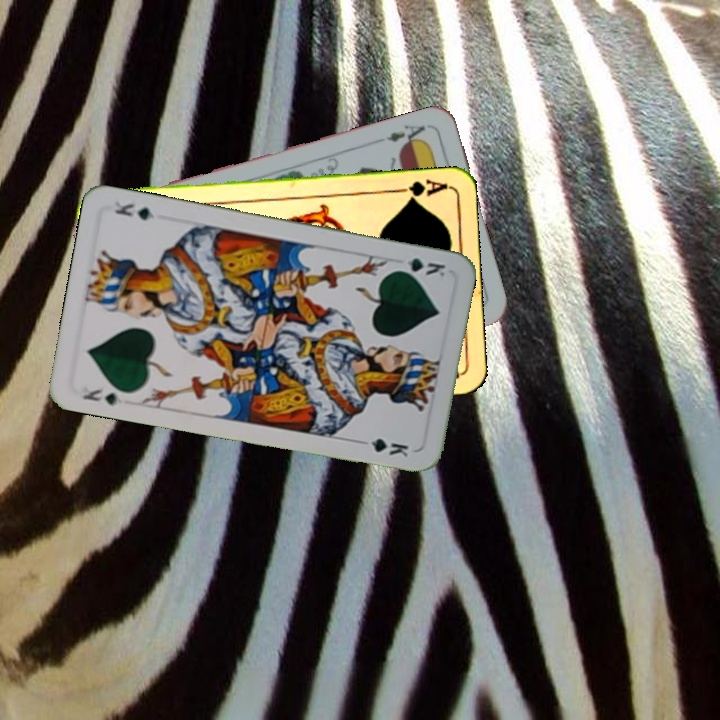EA: (382, 120, 432, 150)
GA: (390, 175, 449, 204)
GK: (390, 253, 448, 282), (79, 385, 126, 409)
